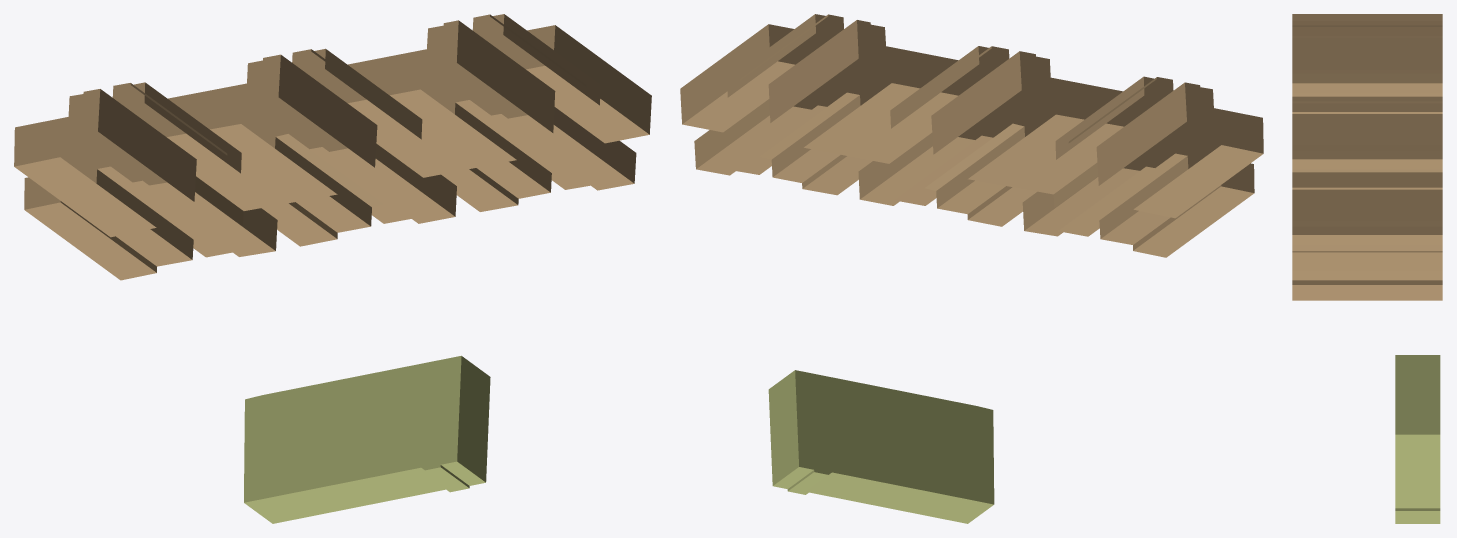
3 renders of one model, left to right at view 1: azimuth 30°, elevation 25°; view 2: azimuth 150°, elevation 25°; view 3: azimuth 270°, elevation 25°, orthographic. The views are drawn at different scales.
Parts seen in each view (by area): view 1: 0_3_2_0_1_3_1_0; view 2: 0_3_2_0_1_3_1_0; view 3: 0_3_2_0_1_3_1_0.
Boxes of the visible parts, bbox=[...] form: 0_3_2_0_1_3_1_0: bbox=[14, 14, 651, 523]; 0_3_2_0_1_3_1_0: bbox=[680, 14, 1263, 523]; 0_3_2_0_1_3_1_0: bbox=[1292, 14, 1442, 523].
Size of the model in its own units: 97.14 by 79.09 by 30.
